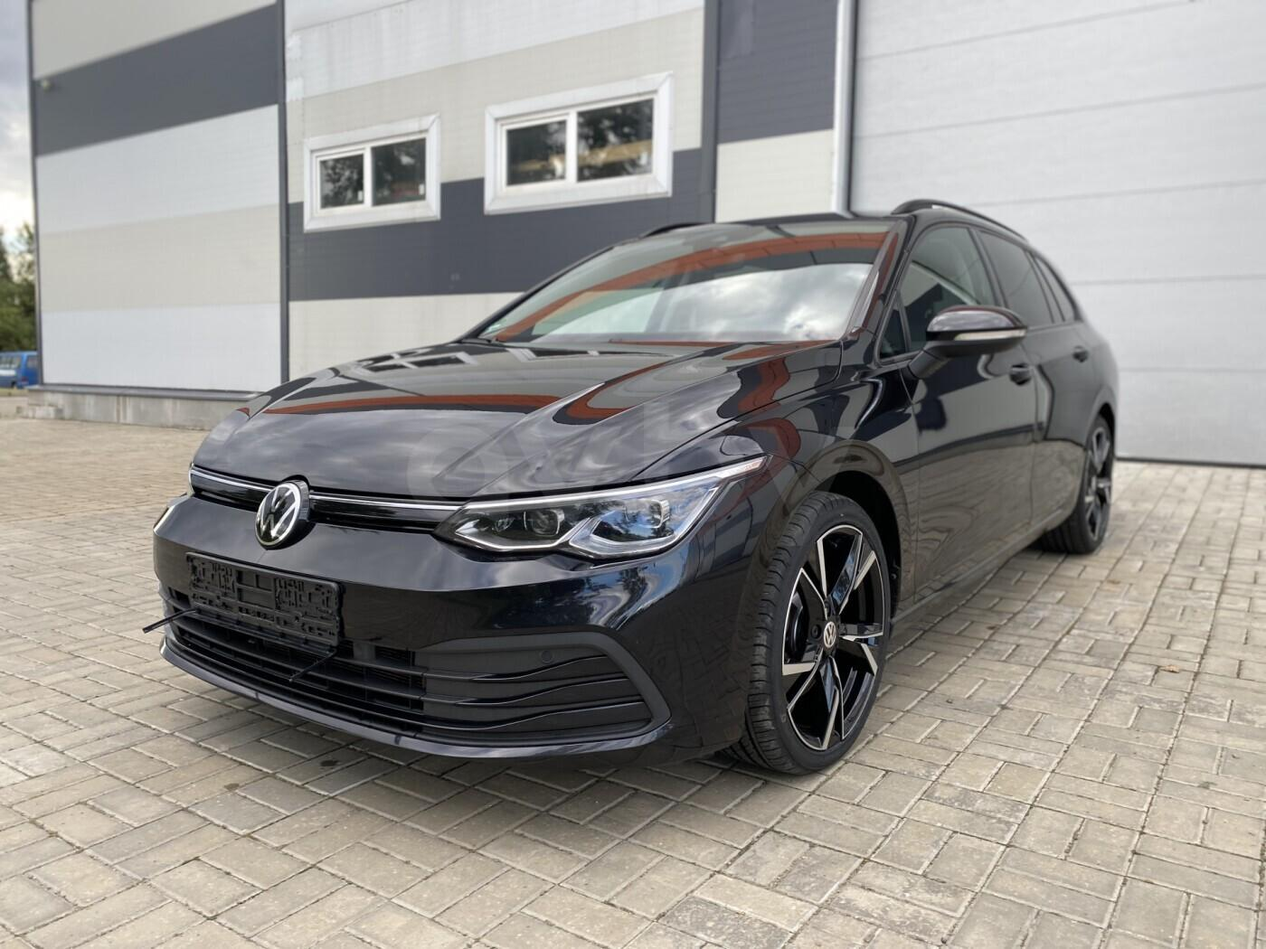Golf_2019: (150, 192, 1134, 775)
